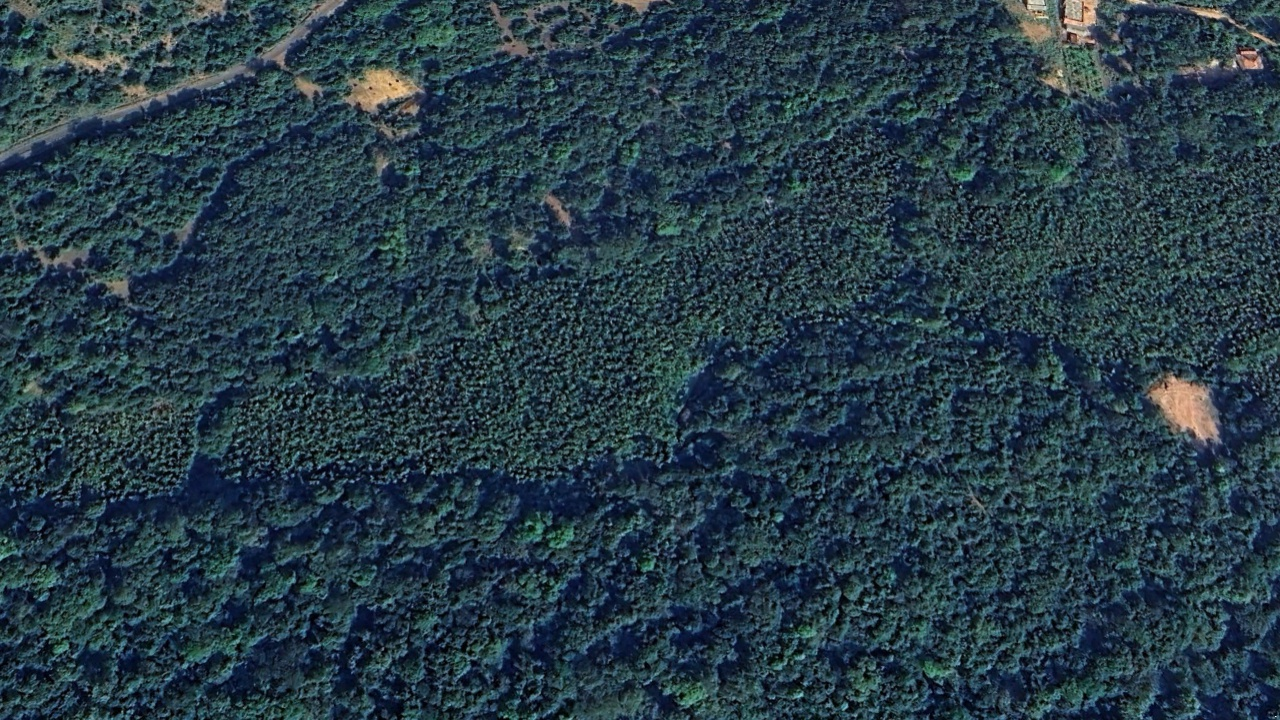arecanut: (475, 195, 887, 379), (13, 387, 678, 481), (971, 177, 1271, 356)
